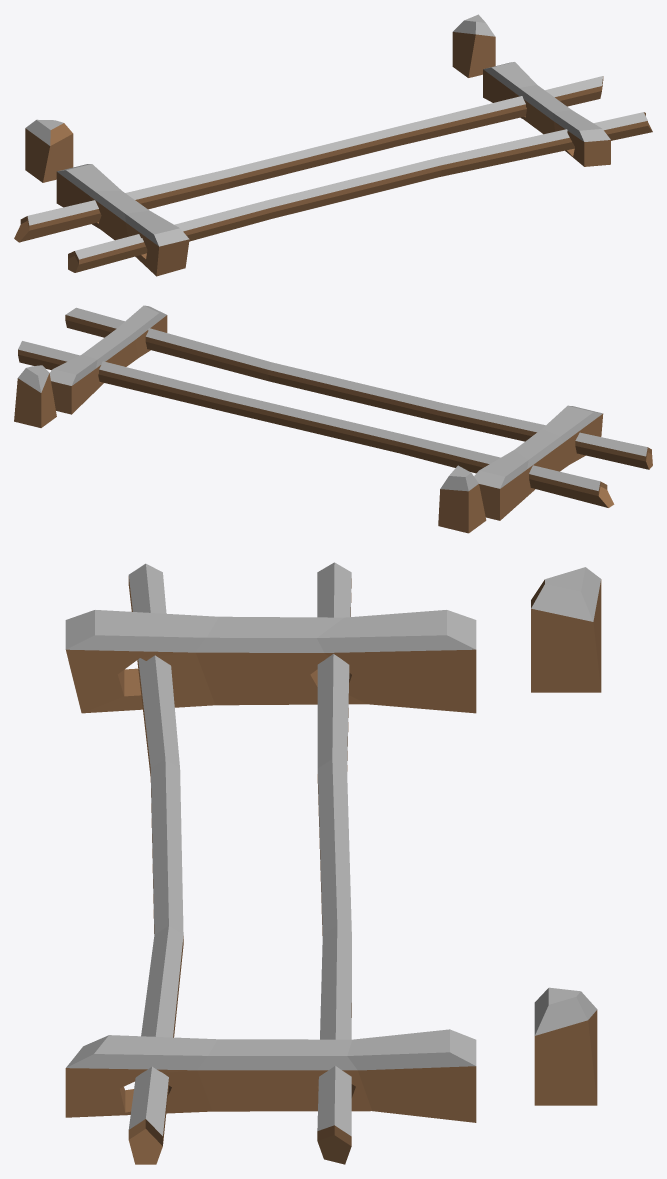
Rendered from Fence_1 Winter Broken.fbx.
3 renders of one model, top to bottom at view 1: azimuth 30°, elevation 25°; view 2: azimuth 150°, elevation 25°; view 3: azimuth 270°, elevation 25°, orthographic. The views are drawn at different scales.
Parts seen in each view (by area): view 1: FenceBrokenWinter_mesh; view 2: FenceBrokenWinter_mesh; view 3: FenceBrokenWinter_mesh.
Part boxes in pixels (left/top/right/bottom): FenceBrokenWinter_mesh: left=14, top=14, right=652, bottom=276; FenceBrokenWinter_mesh: left=14, top=305, right=652, bottom=533; FenceBrokenWinter_mesh: left=65, top=562, right=601, bottom=1164.
Size of the model in its own units: 367 by 36.96 by 145.
